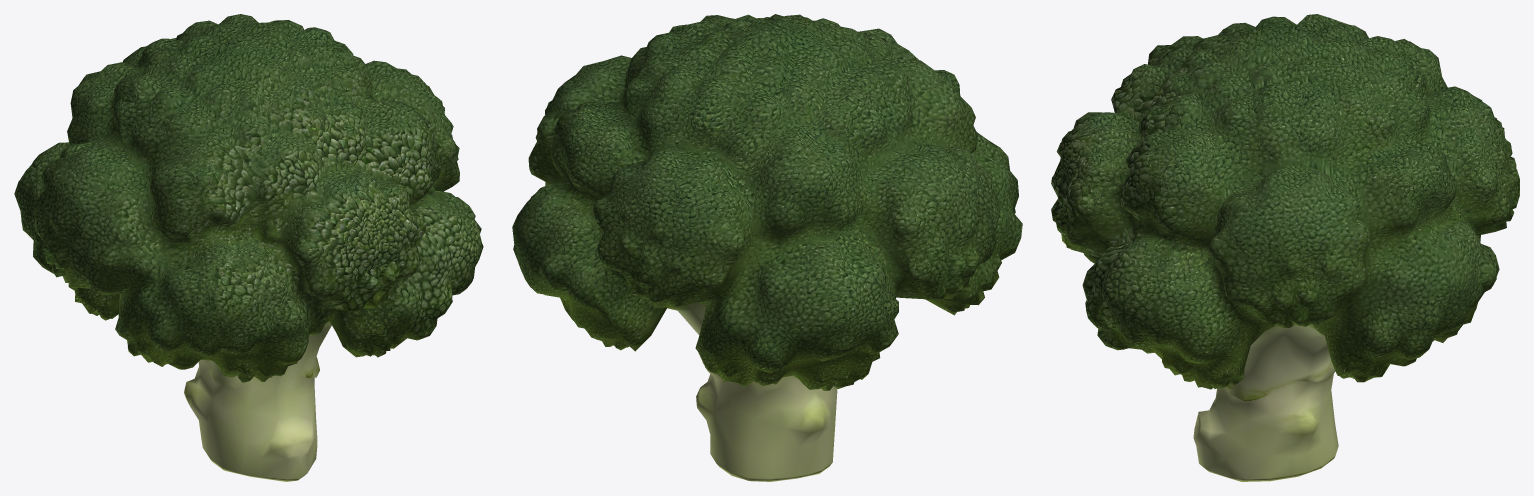
The model's file is optimized_glb.glb.
3 views of the same model, side by side, from view 1: azimuth 30°, elevation 25°; view 2: azimuth 150°, elevation 25°; view 3: azimuth 270°, elevation 25° (orthographic). The views are drawn at different scales.
Visible parts, largest first — view 1: Broccoli; view 2: Broccoli; view 3: Broccoli.
Boxes of the visible parts, x1,y1,x2,y2 form: Broccoli: (14, 14, 483, 481); Broccoli: (512, 14, 1022, 481); Broccoli: (1051, 14, 1519, 481).
Size of the model in its own units: 0.9941 by 0.998 by 0.9902.
Materials: 1 (1 with a texture image).
